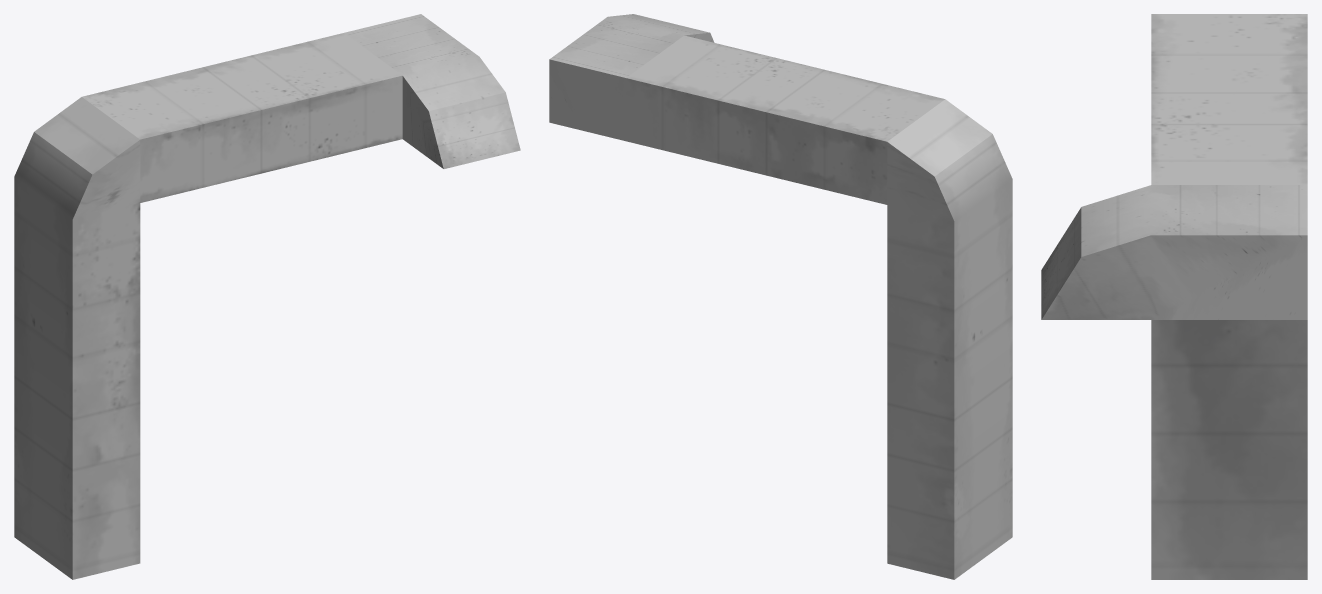
The model's file is BgMD_Tube_02_01.fbx.
3 renders of one model, left to right at view 1: azimuth 30°, elevation 25°; view 2: azimuth 150°, elevation 25°; view 3: azimuth 270°, elevation 25°, orthographic. The views are drawn at different scales.
Visible parts, largest first — view 1: pCube67; view 2: pCube67; view 3: pCube67.
Boxes of the visible parts, bbox=[...] form: pCube67: bbox=[14, 14, 520, 579]; pCube67: bbox=[549, 14, 1012, 579]; pCube67: bbox=[1041, 14, 1307, 579].
Bounding box in the file's own units: 603 × 600 × 256.
1 material, 1 textured.
